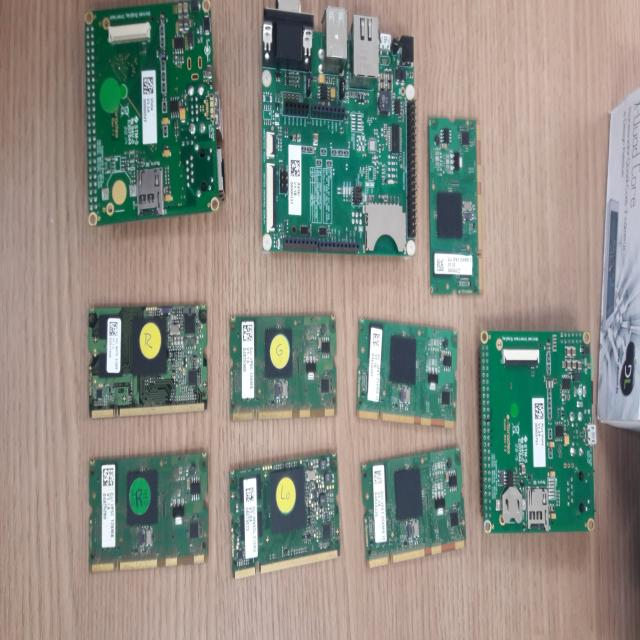som: (87, 447, 213, 576), (81, 296, 212, 419), (231, 446, 344, 583), (360, 445, 470, 575), (354, 307, 461, 433), (227, 309, 339, 424), (427, 115, 487, 304)
